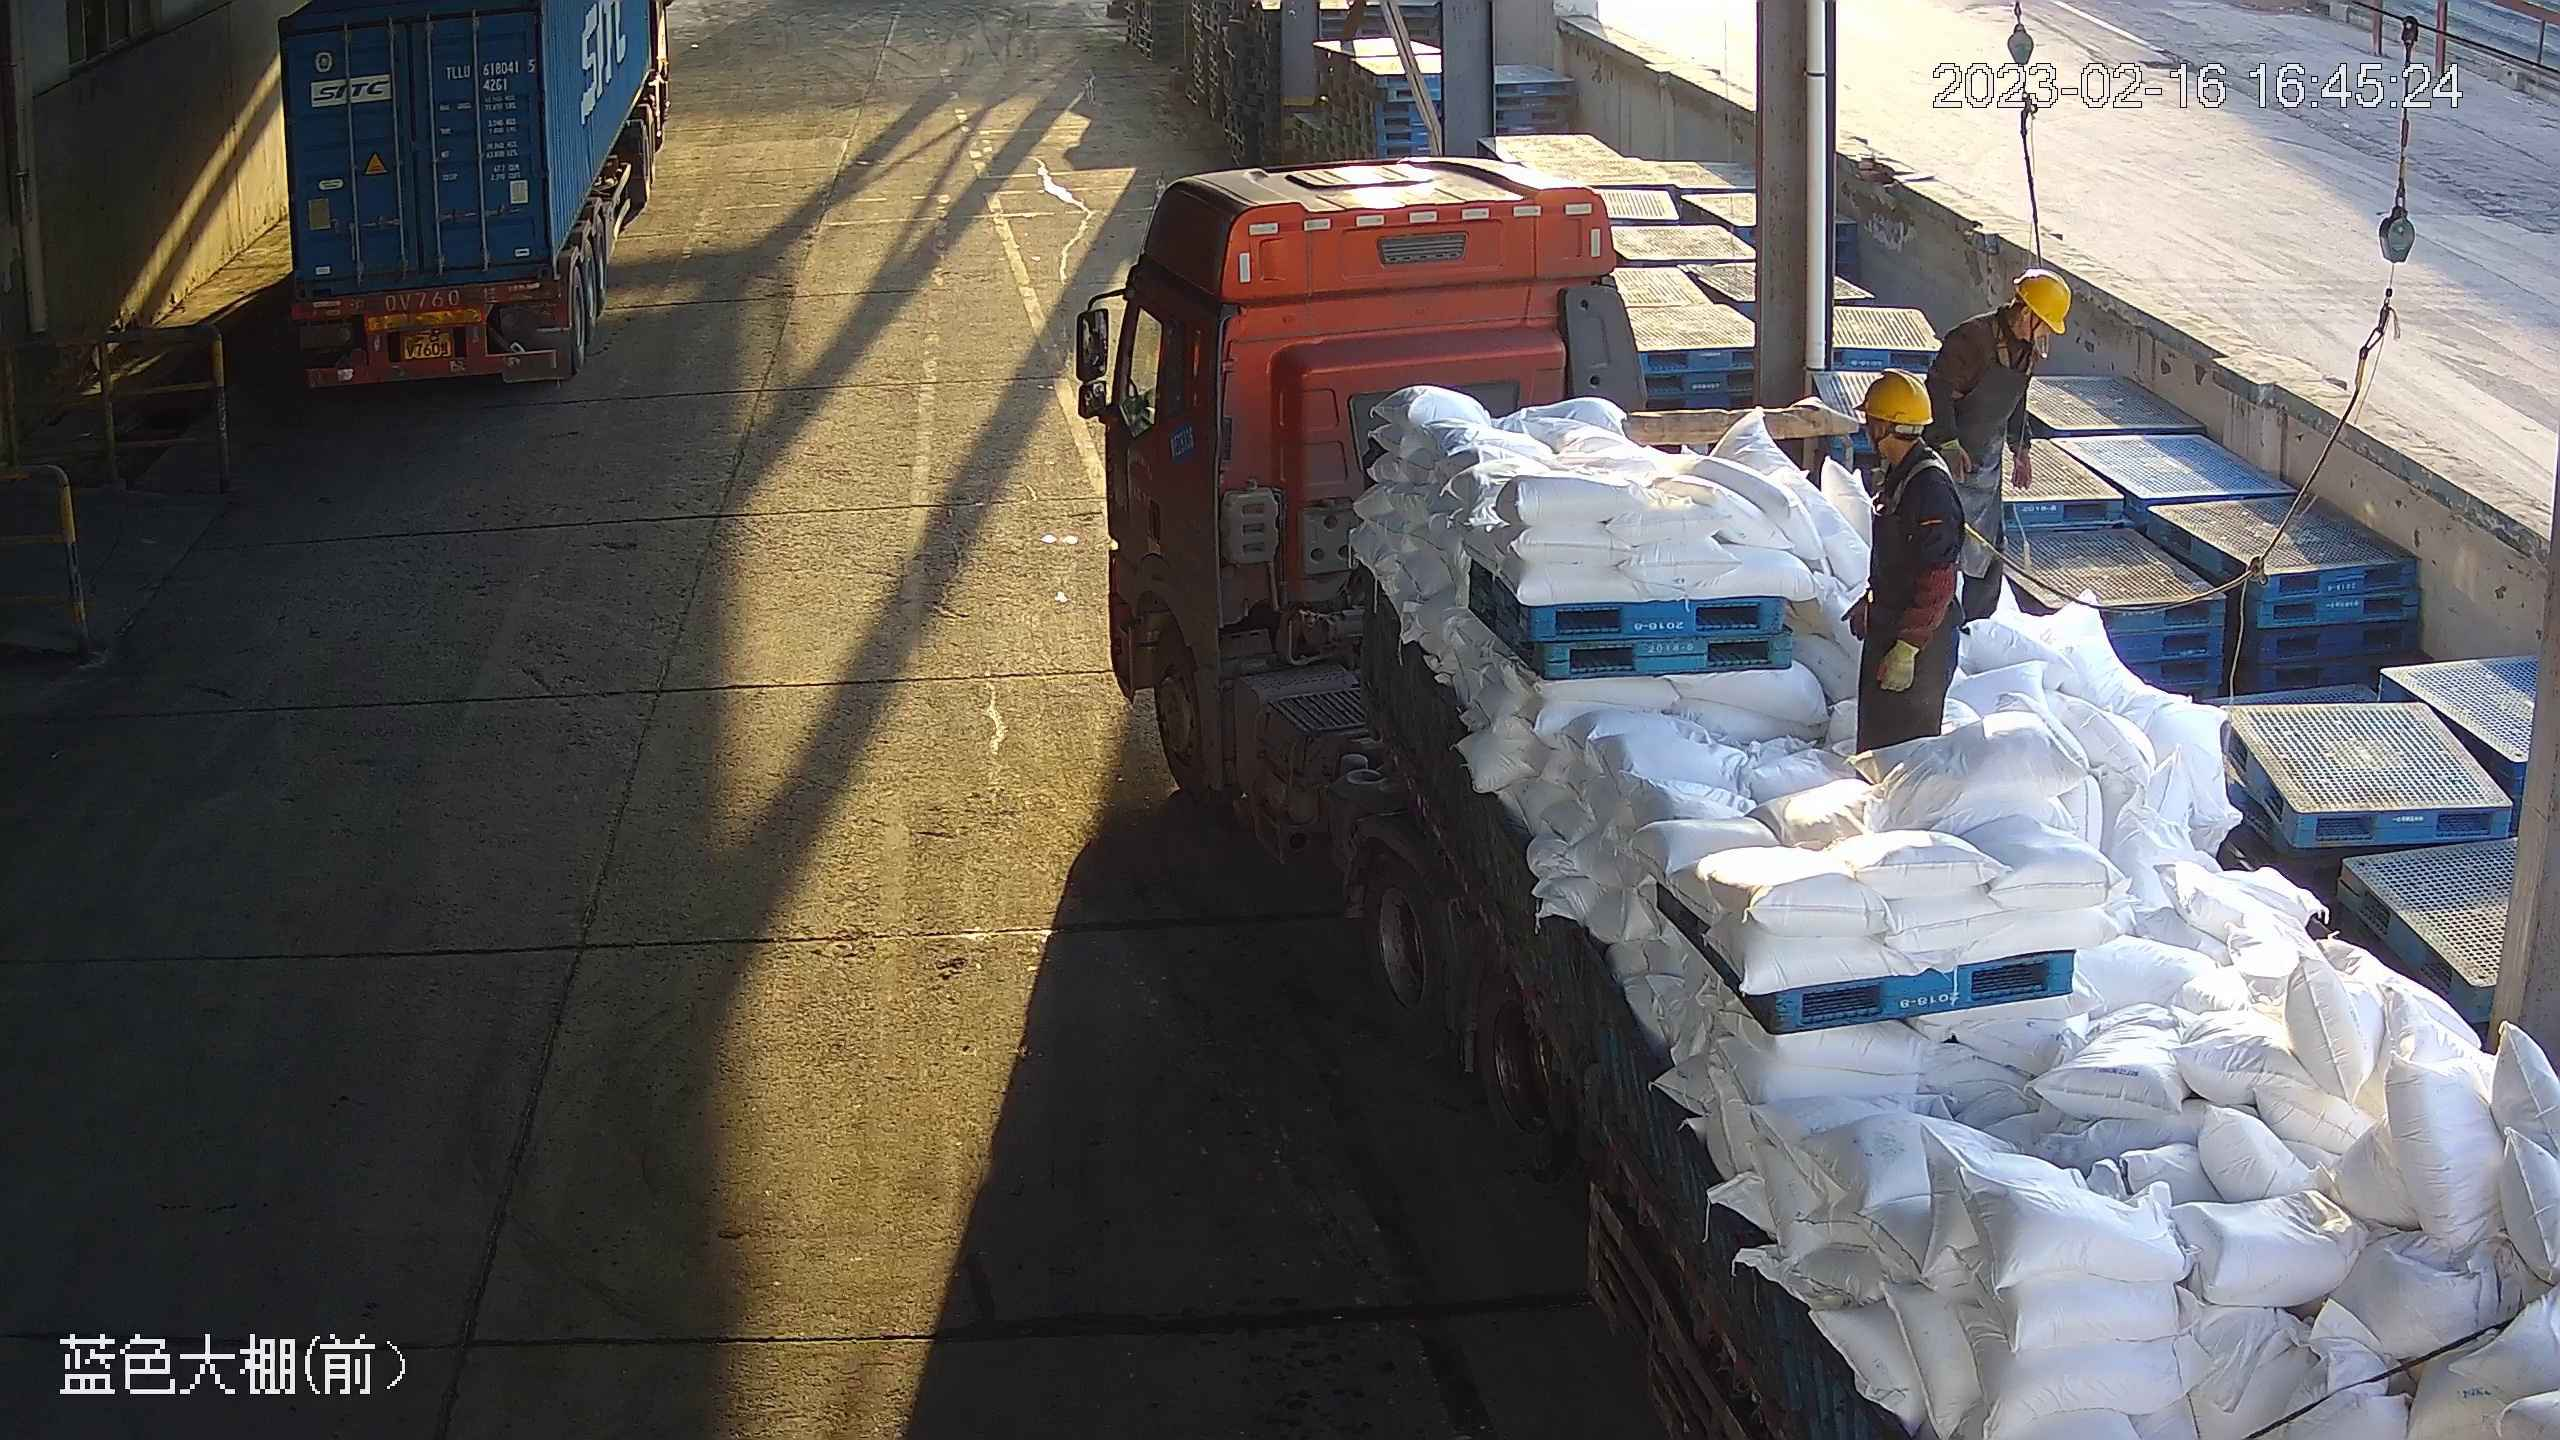belt: (1874, 457, 2001, 553), (1981, 319, 2043, 381)
head: (1842, 367, 1956, 530), (1945, 262, 2073, 403)
helmet: (1854, 370, 1937, 432), (2012, 274, 2073, 339)
people: (1922, 262, 2078, 632), (1839, 364, 1971, 752)
truck: (1066, 147, 2560, 1440), (264, 1, 669, 396)
